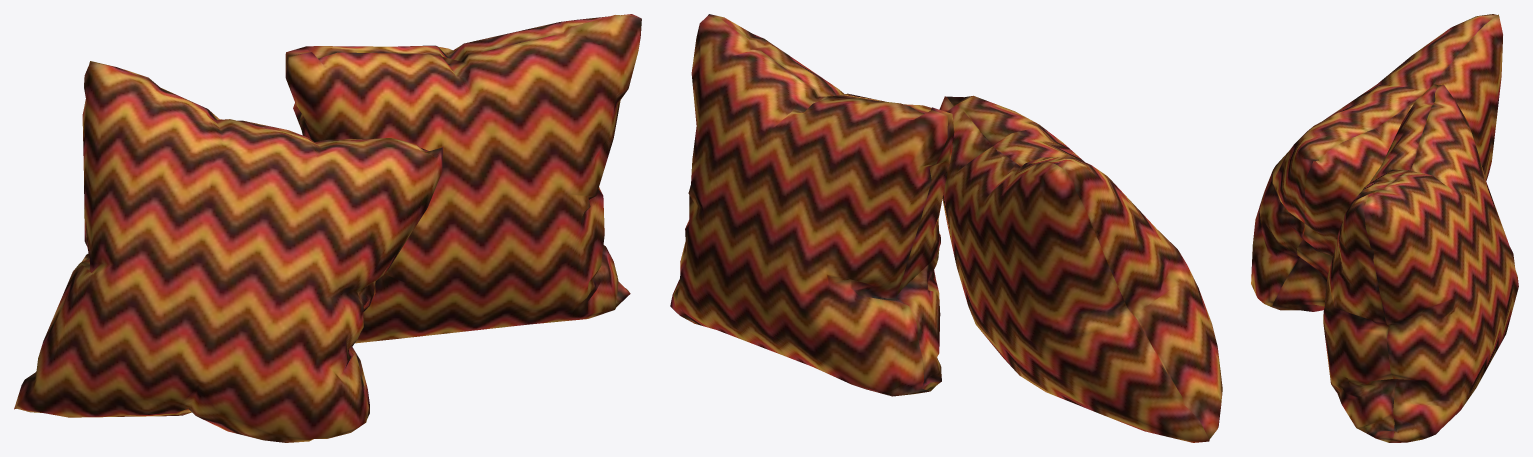
File: throw_pillows_01.gltf
3 views of the same model, side by side, from view 1: azimuth 30°, elevation 25°; view 2: azimuth 150°, elevation 25°; view 3: azimuth 270°, elevation 25° (orthographic). The views are drawn at different scales.
Visible parts, largest first — view 1: throw_pillows_01_pillow01, throw_pillows_01_pillow02; view 2: throw_pillows_01_pillow02, throw_pillows_01_pillow01; view 3: throw_pillows_01_pillow02, throw_pillows_01_pillow01.
Boxes of the visible parts, x1=… form: throw_pillows_01_pillow01: x1=14, y1=61, x2=443, y2=442; throw_pillows_01_pillow02: x1=285, y1=14, x2=641, y2=343; throw_pillows_01_pillow02: x1=670, y1=14, x2=954, y2=396; throw_pillows_01_pillow01: x1=939, y1=95, x2=1222, y2=442; throw_pillows_01_pillow02: x1=1323, y1=84, x2=1518, y2=442; throw_pillows_01_pillow01: x1=1251, y1=14, x2=1502, y2=311.
Size of the model in its own units: 0.9342 by 0.4499 by 0.4502.
Materials: 1 (1 with a texture image).
